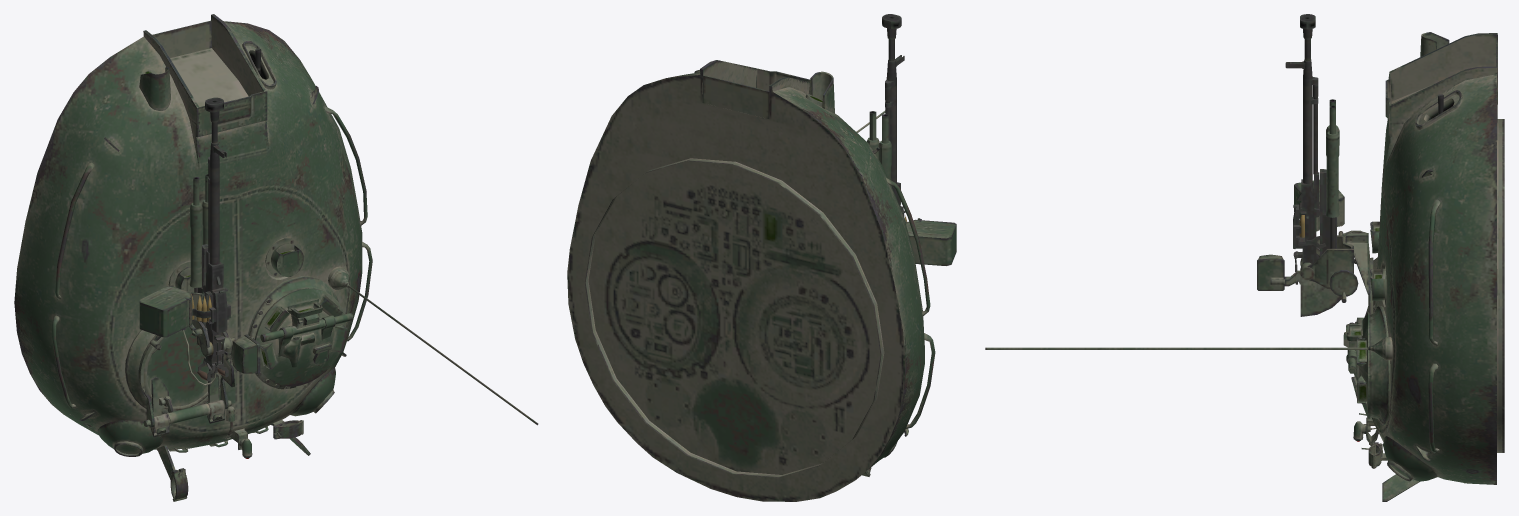
File: Turret_02.glb
The picture shows the model from 3 angles, left to right: view 1: azimuth 30°, elevation 25°; view 2: azimuth 150°, elevation 25°; view 3: azimuth 270°, elevation 25°; orthographic projection. The views are drawn at different scales.
Parts seen in each view (by area): view 1: set_0_group_0; view 2: set_0_group_0; view 3: set_0_group_0.
Boxes of the visible parts, bbox=[...] form: set_0_group_0: bbox=[14, 14, 538, 501]; set_0_group_0: bbox=[567, 14, 956, 501]; set_0_group_0: bbox=[985, 14, 1504, 501].
Bounding box in the file's own units: 2.01 × 2.46 × 2.71.
Materials: 1 (1 with a texture image).
